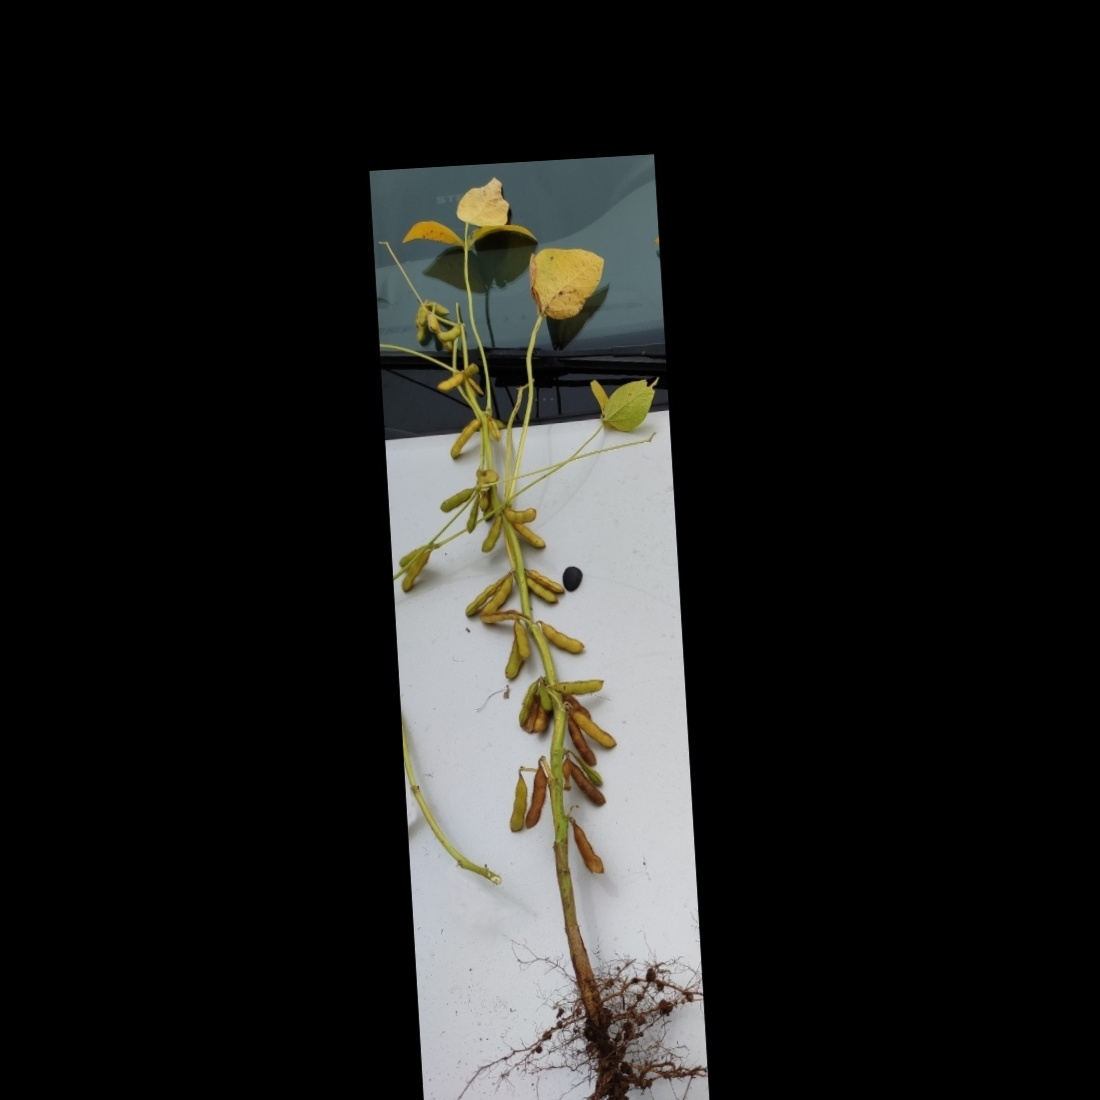pod: (564, 813, 607, 881), (558, 751, 607, 810), (517, 757, 554, 833), (457, 573, 513, 618), (502, 763, 532, 837), (573, 704, 618, 752), (398, 546, 440, 594), (565, 716, 599, 771), (543, 618, 587, 659), (478, 571, 516, 618), (448, 414, 484, 459), (521, 564, 570, 596), (549, 673, 610, 698), (519, 573, 560, 608), (474, 510, 505, 555), (514, 515, 548, 554), (508, 611, 534, 662), (435, 485, 476, 515), (502, 502, 541, 526), (432, 372, 467, 395), (434, 325, 462, 342)
soy: (381, 225, 694, 1074)
